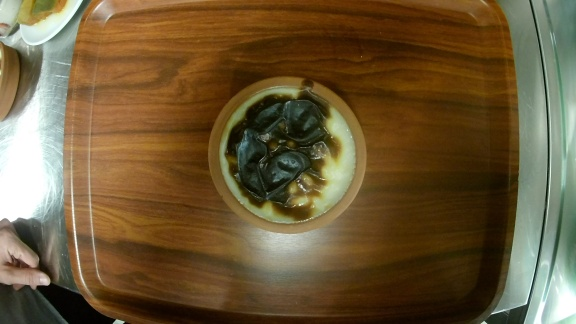sutlac: (208, 76, 367, 233)
